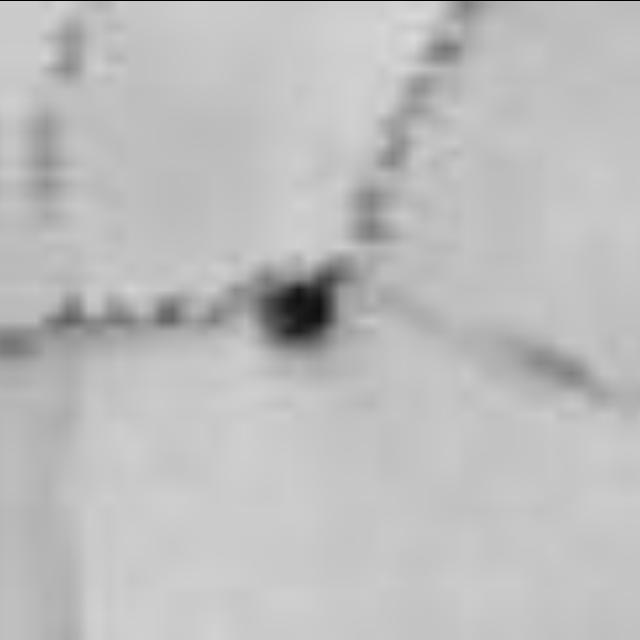good_void: (254, 262, 349, 351)
